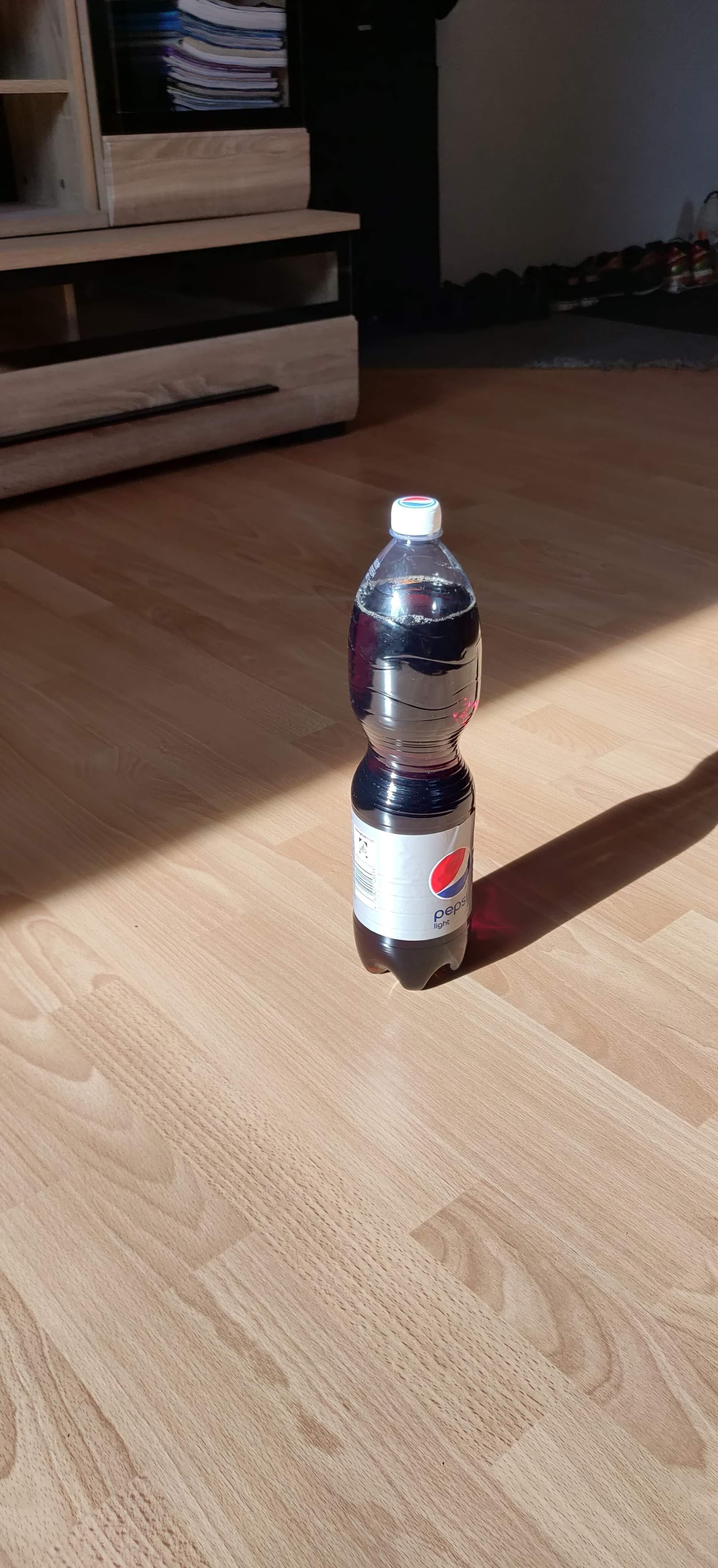bottle-plastic: (345, 494, 487, 991)
